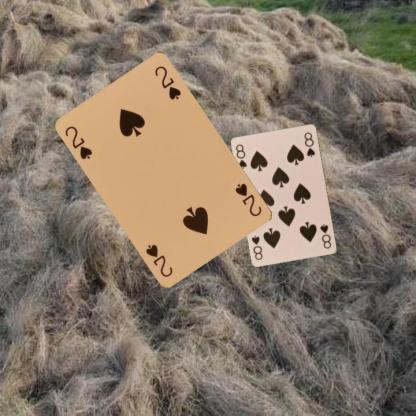2s: (232, 180, 264, 218), (62, 123, 94, 161)
8s: (318, 221, 333, 250), (234, 142, 249, 170)
